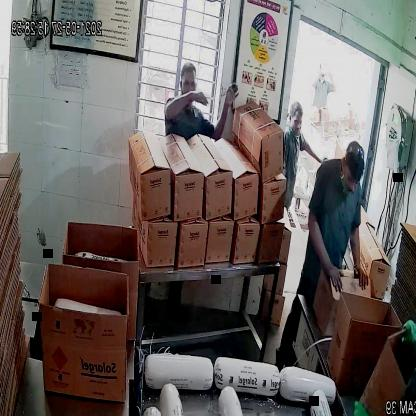no_goggles: (342, 167, 366, 188), (180, 74, 200, 94)
